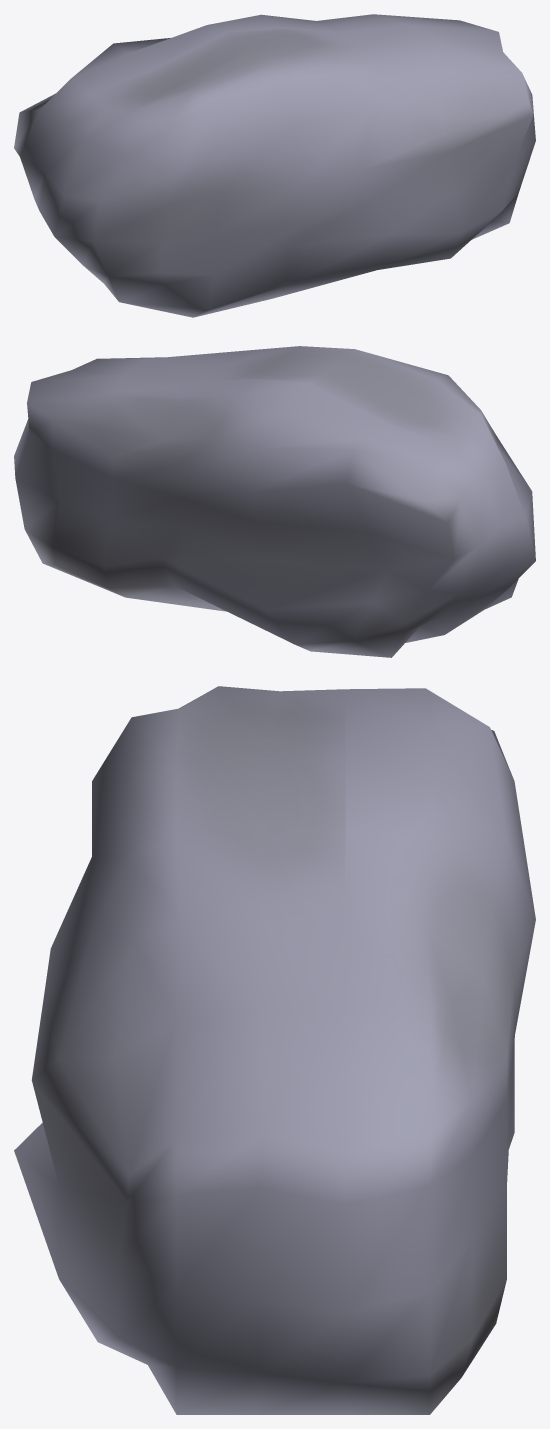
Rendered from rock_2.fbx.
3 renders of one model, top to bottom at view 1: azimuth 30°, elevation 25°; view 2: azimuth 150°, elevation 25°; view 3: azimuth 270°, elevation 25°, orthographic. The views are drawn at different scales.
Parts seen in each view (by area): view 1: pCube1; view 2: pCube1; view 3: pCube1.
Part boxes in pixels (<box>): pCube1: <box>14,14,535,317</box>; pCube1: <box>14,346,535,657</box>; pCube1: <box>14,686,535,1414</box>.
Bounding box in the file's own units: 103 × 47.86 × 49.15.
1 material, 1 textured.
